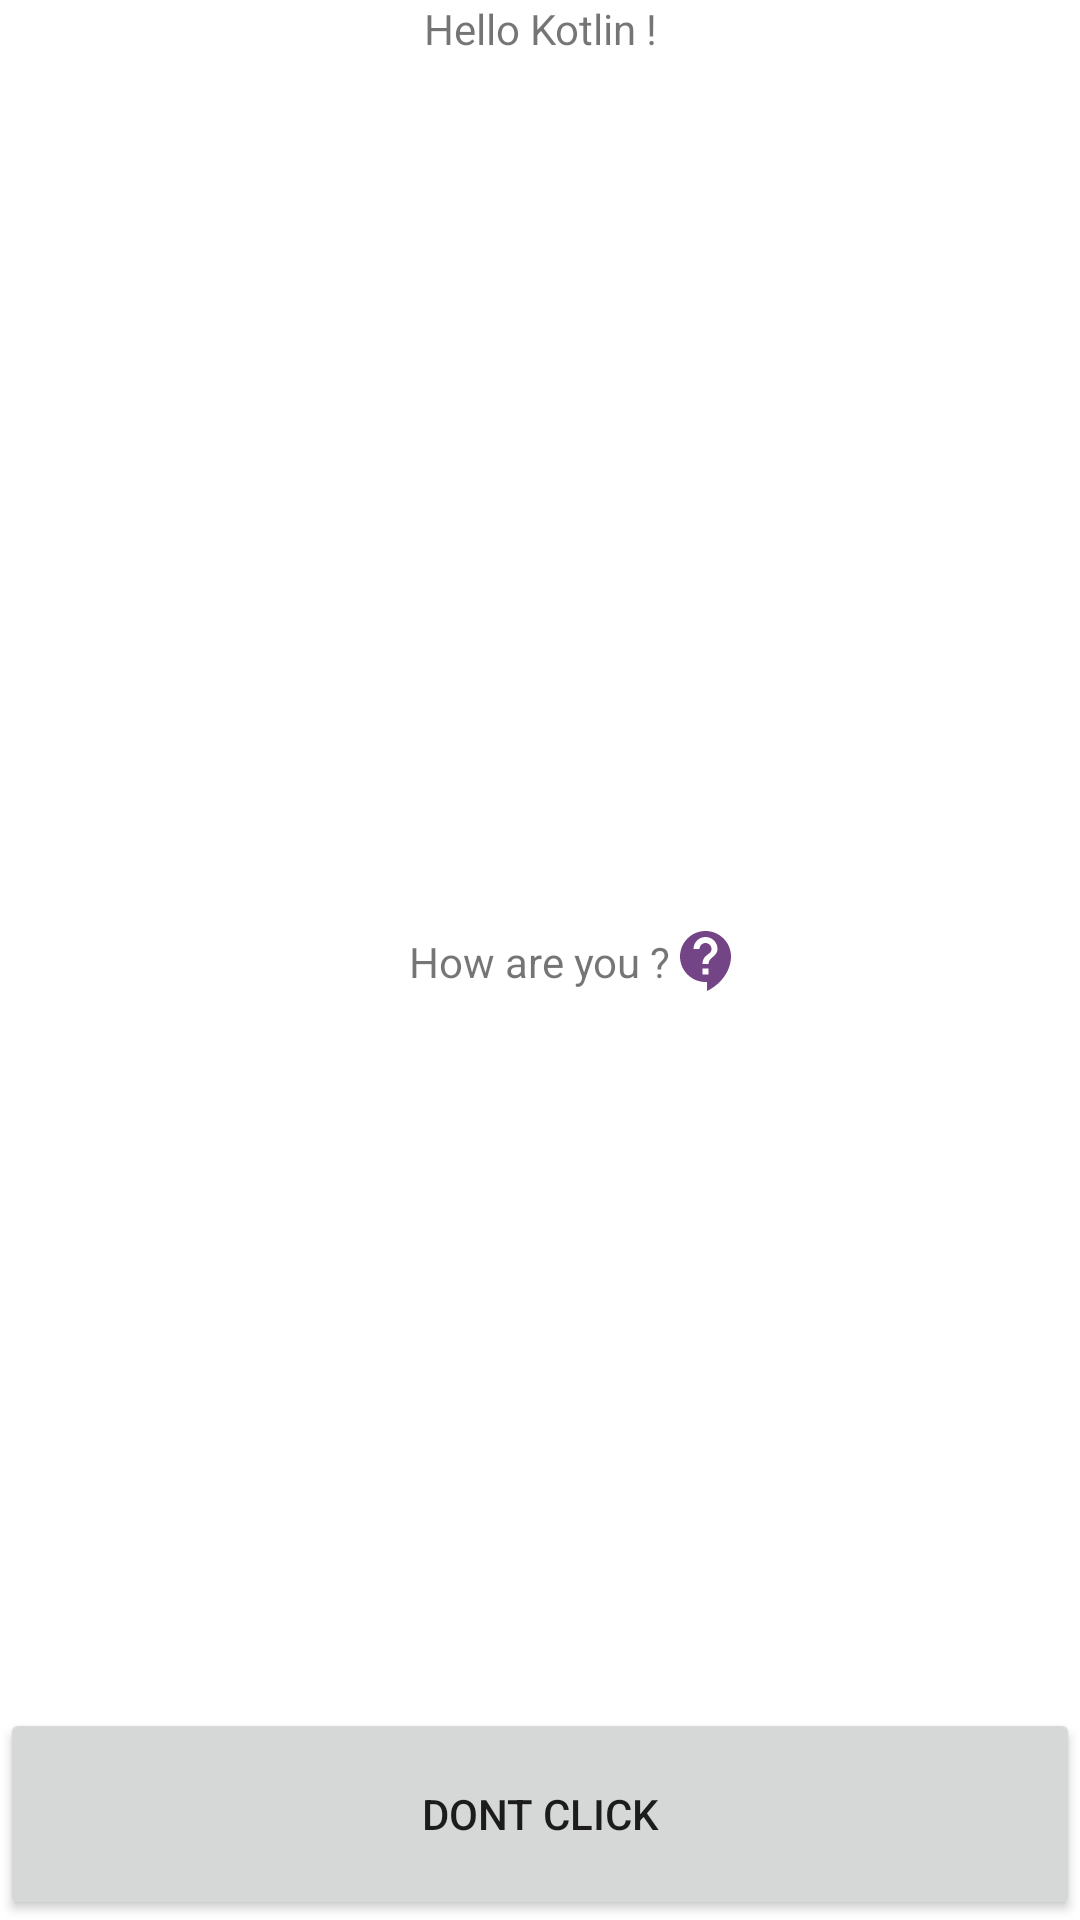

Icon click points for this 1080 × 1920 phone screenshot, format (x=x, y=y):
support: (x=705, y=961)
